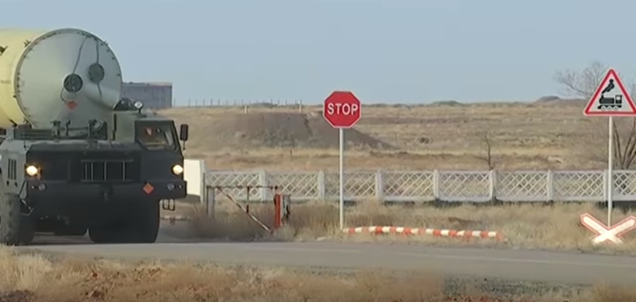stop: (321, 88, 362, 130)
